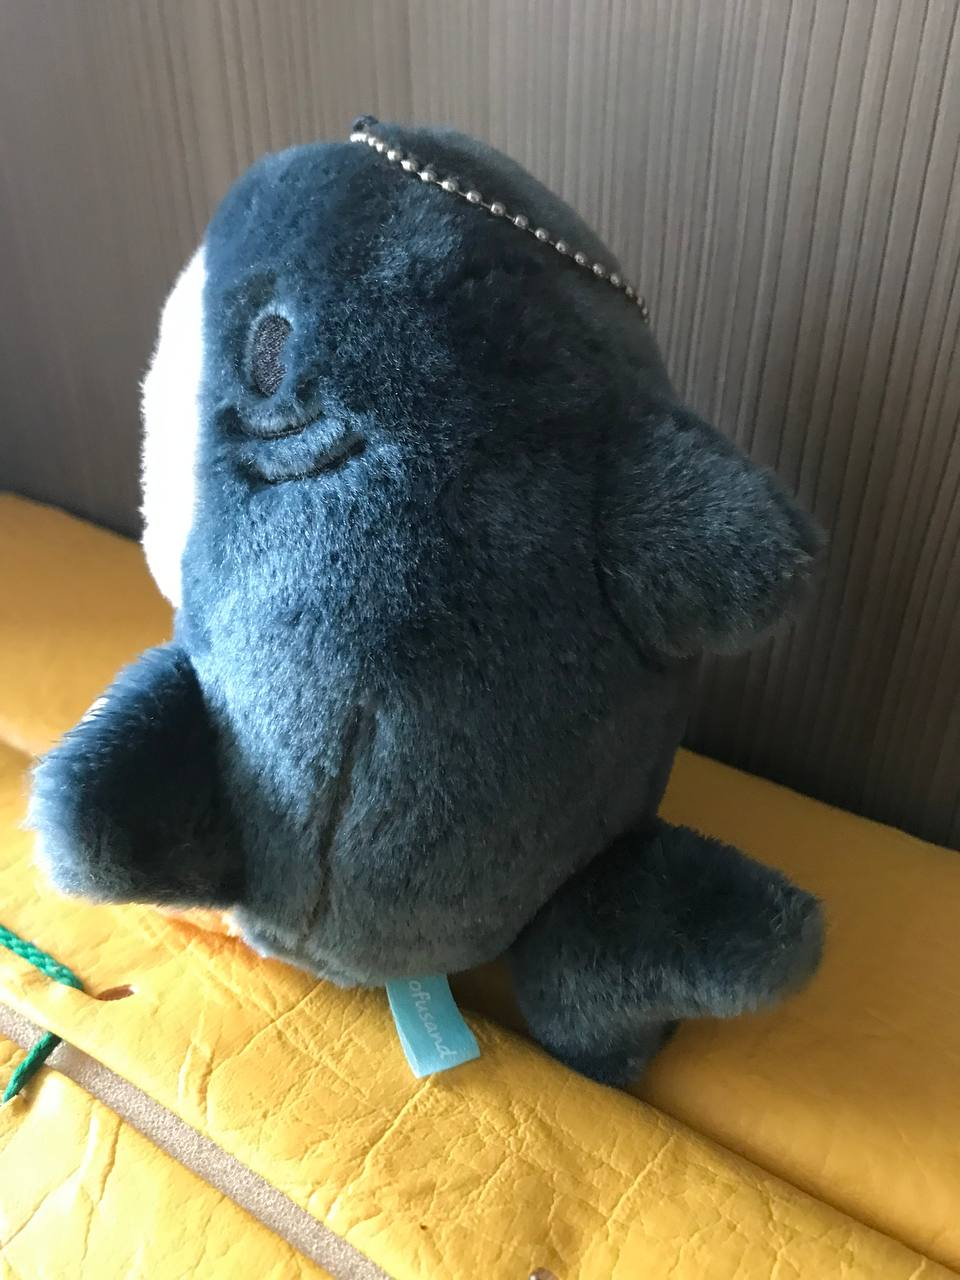cat_shark: (15, 120, 833, 1096)
